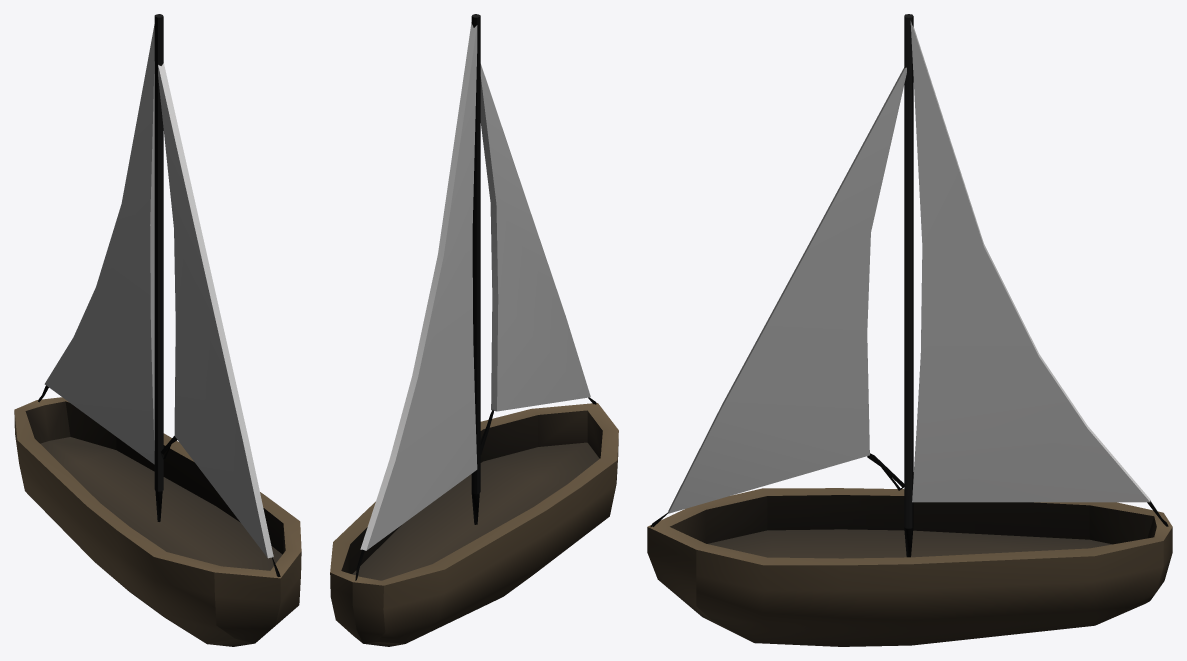
The picture shows the model from 3 angles, left to right: view 1: azimuth 30°, elevation 25°; view 2: azimuth 150°, elevation 25°; view 3: azimuth 270°, elevation 25°; orthographic projection. The views are drawn at different scales.
Visible parts, largest first — view 1: ToySailBoat; view 2: ToySailBoat; view 3: ToySailBoat.
Part boxes in pixels (x1,y1,x2,y2): ToySailBoat: (14,14,301,646); ToySailBoat: (330,14,618,646); ToySailBoat: (647,14,1172,646).
Size of the model in its own units: 0.1327 by 0.5 by 0.3812.
